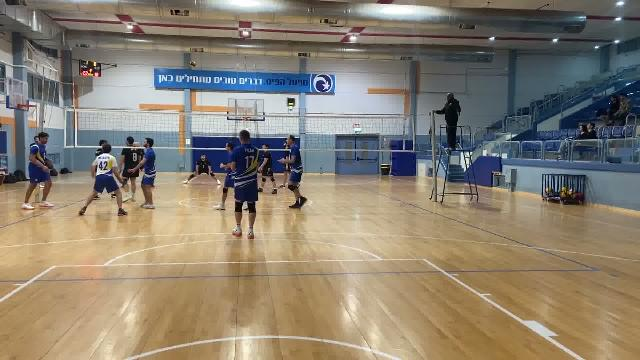ball: (187, 59, 198, 70)
